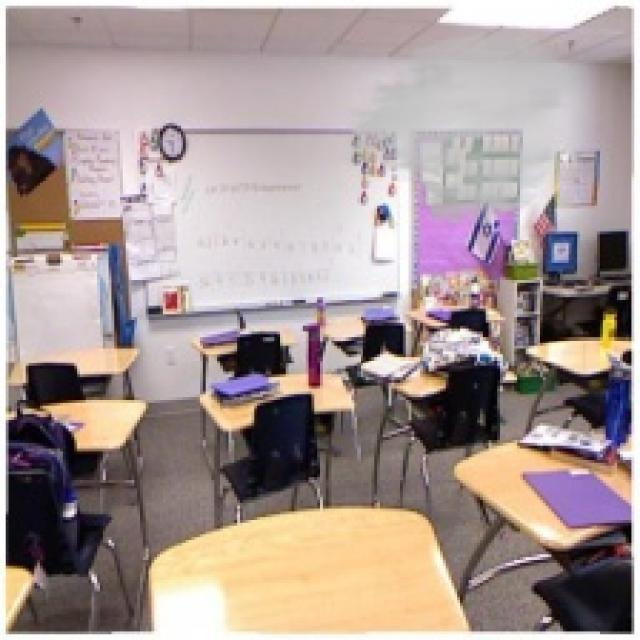Smoke: (334, 25, 580, 228)
